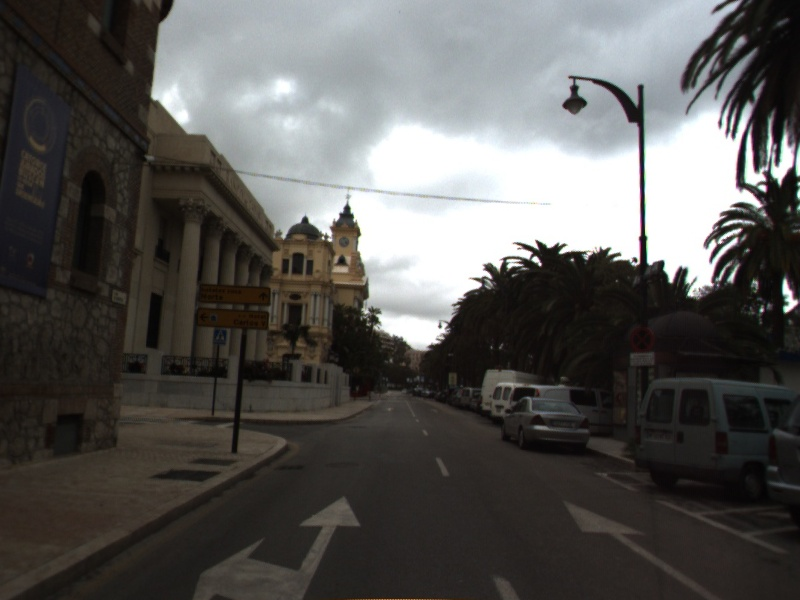STRAIGHT: (560, 496, 724, 600)
STRAIGHT_LEFT: (191, 493, 362, 600)
